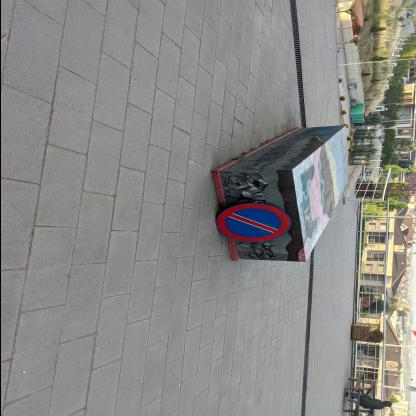No Waiting: (215, 204, 293, 244)
